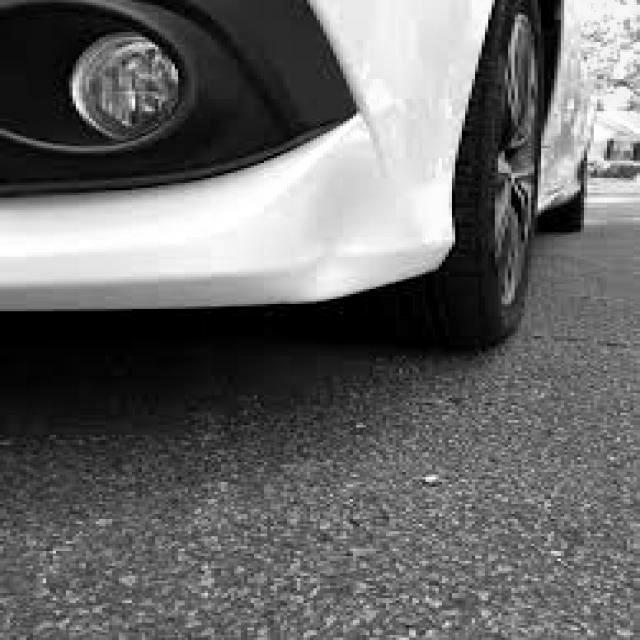front-bumper-dent: (0, 5, 508, 343)
